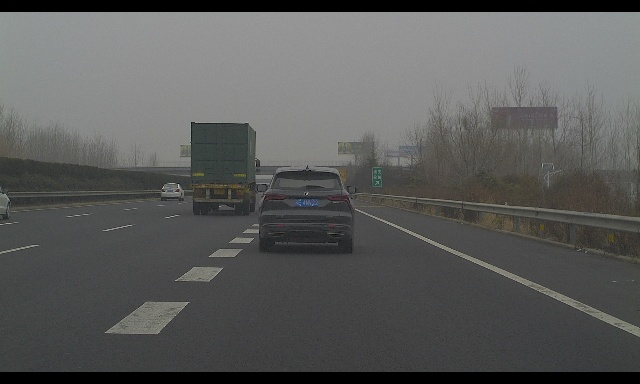car: (257, 165, 357, 253), (160, 183, 184, 201), (0, 185, 11, 219)
truck: (190, 122, 260, 215)
